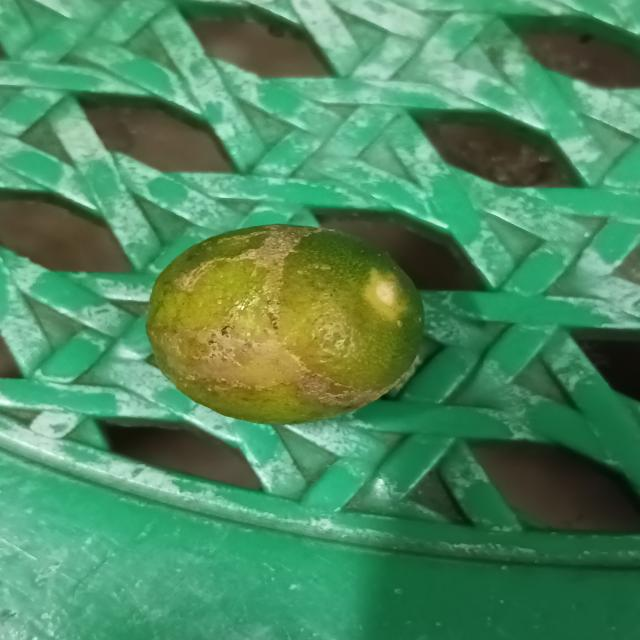thrips: (146, 226, 433, 421)
